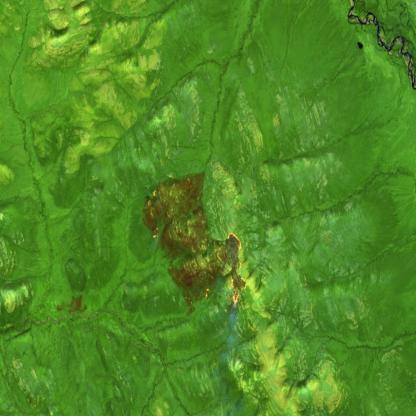fire: (221, 228, 254, 312)
